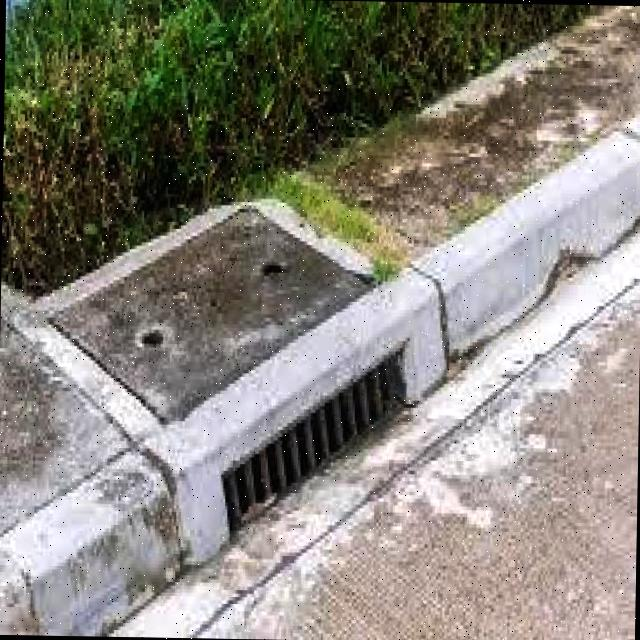curb: (198, 319, 431, 534), (1, 459, 218, 627), (385, 182, 536, 383), (541, 116, 636, 278)
